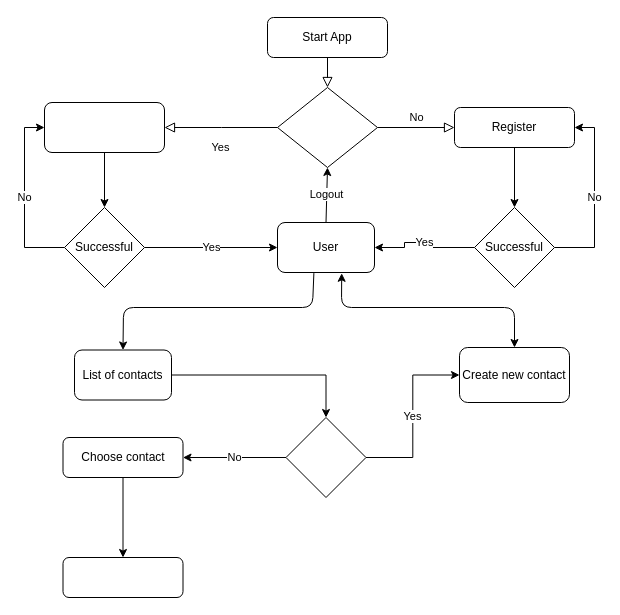
The diagram is 620 pixels wide and 615 high, and some of its shapes have lost their labels. Here are the shapes that lost their labels. From the top down, the centre of each, then its label:
point (104, 127): Login
point (327, 127): Have an account?
point (325, 457): Empty?
point (122, 577): Call,send mail,edit or delete contact
